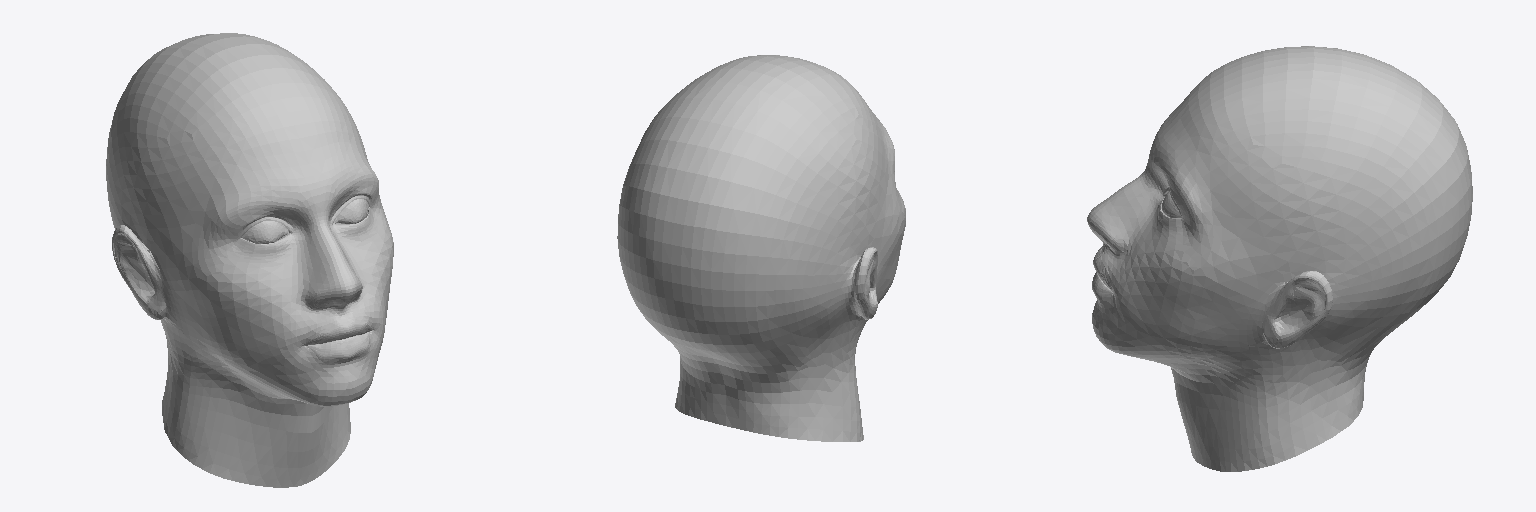
The picture shows the model from 3 angles: view 1: azimuth 30°, elevation 25°; view 2: azimuth 150°, elevation 25°; view 3: azimuth 270°, elevation 25°; orthographic projection.
Parts seen in each view (by area): view 1: FaceGen; view 2: FaceGen; view 3: FaceGen.
Part boxes in pixels (x1,y1,x2,y2): FaceGen: (106,33,393,487); FaceGen: (617,55,905,441); FaceGen: (1087,46,1472,471).
Size of the model in its own units: 181 by 283 by 250.